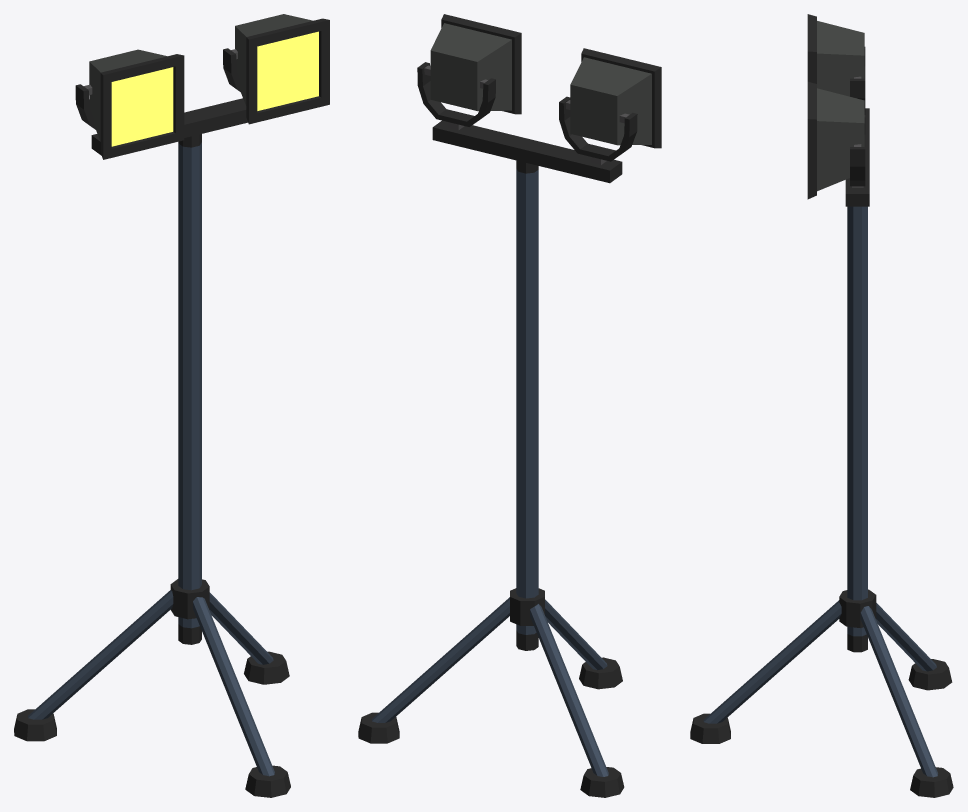
The model's file is SM_Props_Light_01.glb.
3 renders of one model, left to right at view 1: azimuth 30°, elevation 25°; view 2: azimuth 150°, elevation 25°; view 3: azimuth 270°, elevation 25°, orthographic. The views are drawn at different scales.
Visible parts, largest first — view 1: SM_Props_Light_01; view 2: SM_Props_Light_01; view 3: SM_Props_Light_01.
Boxes of the visible parts, x1,y1,x2,y2 form: SM_Props_Light_01: [14, 14, 329, 797]; SM_Props_Light_01: [358, 14, 661, 797]; SM_Props_Light_01: [690, 14, 953, 797].
Bounding box in the file's own units: 0.6092 × 1.51 × 0.5379.
2 materials, 1 textured.
